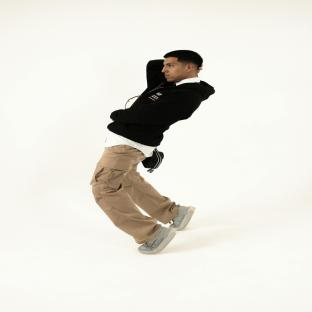Human: (90, 50, 215, 255)
